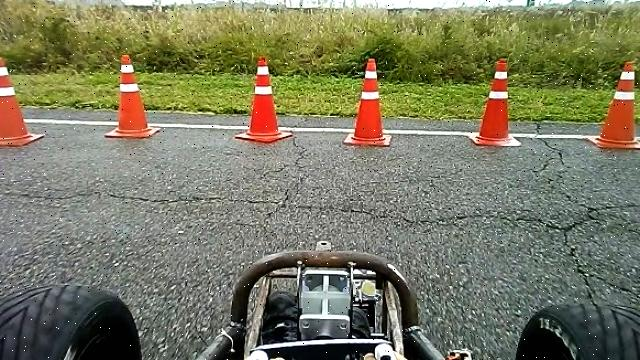red cone: (234, 56, 295, 142), (105, 53, 162, 138), (470, 57, 522, 146), (588, 61, 640, 150), (343, 57, 393, 146), (0, 56, 45, 146)
